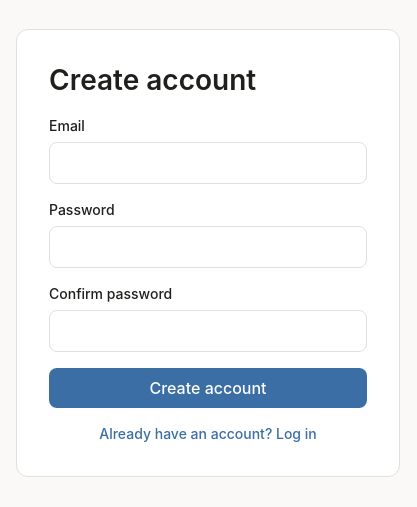
Test: RegisterScreen › clears the mismatch error once the two password fields match again
Type "person@example.com" into the field labelled "Email". click: point(208, 163)
box: [49,142,367,184]
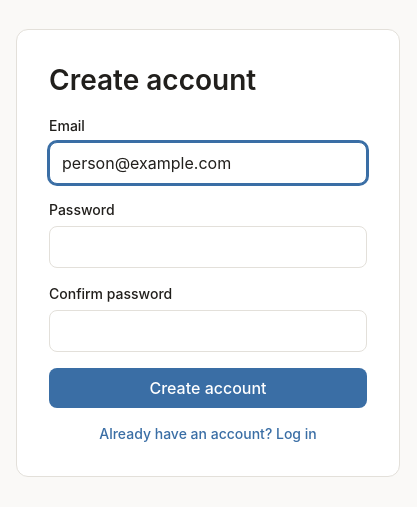
Type "hunter2" into the password field labelled "Password". click: point(208, 247)
box: [49,226,367,268]
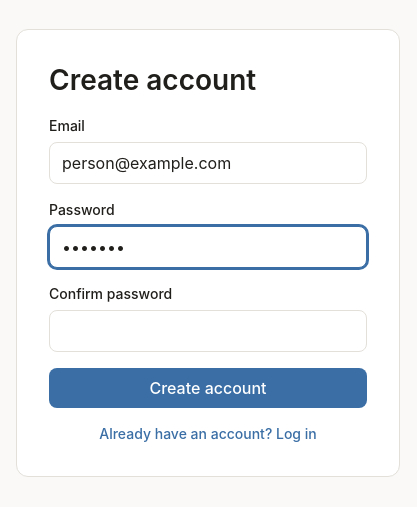
Type "different" into the password field labelled "Confirm password". click: point(208, 331)
box: [49,310,367,352]
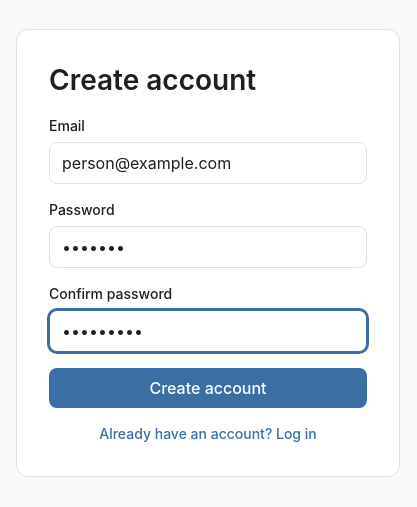
Click the button "Create account". click: point(208, 388)
box: [49,368,367,408]
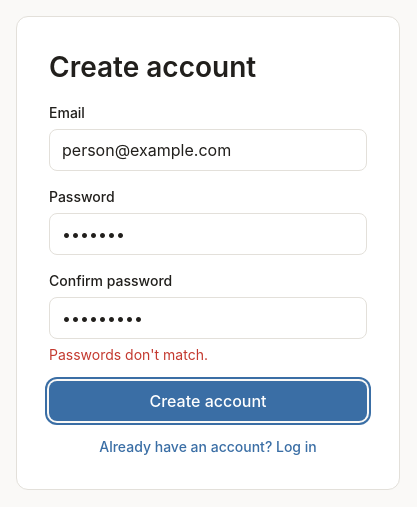
Expected: the text "Passwords don't match." is shown, [49,346,208,363]
Type "hunter2" into the password field labelled "Confirm password". click: point(208, 318)
box: [49,297,367,339]
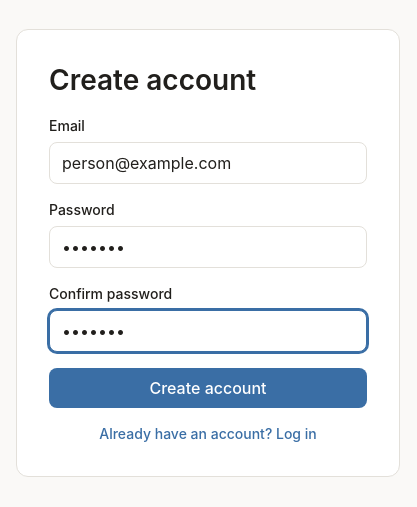
Expected: the text "Passwords don't match." is gone
